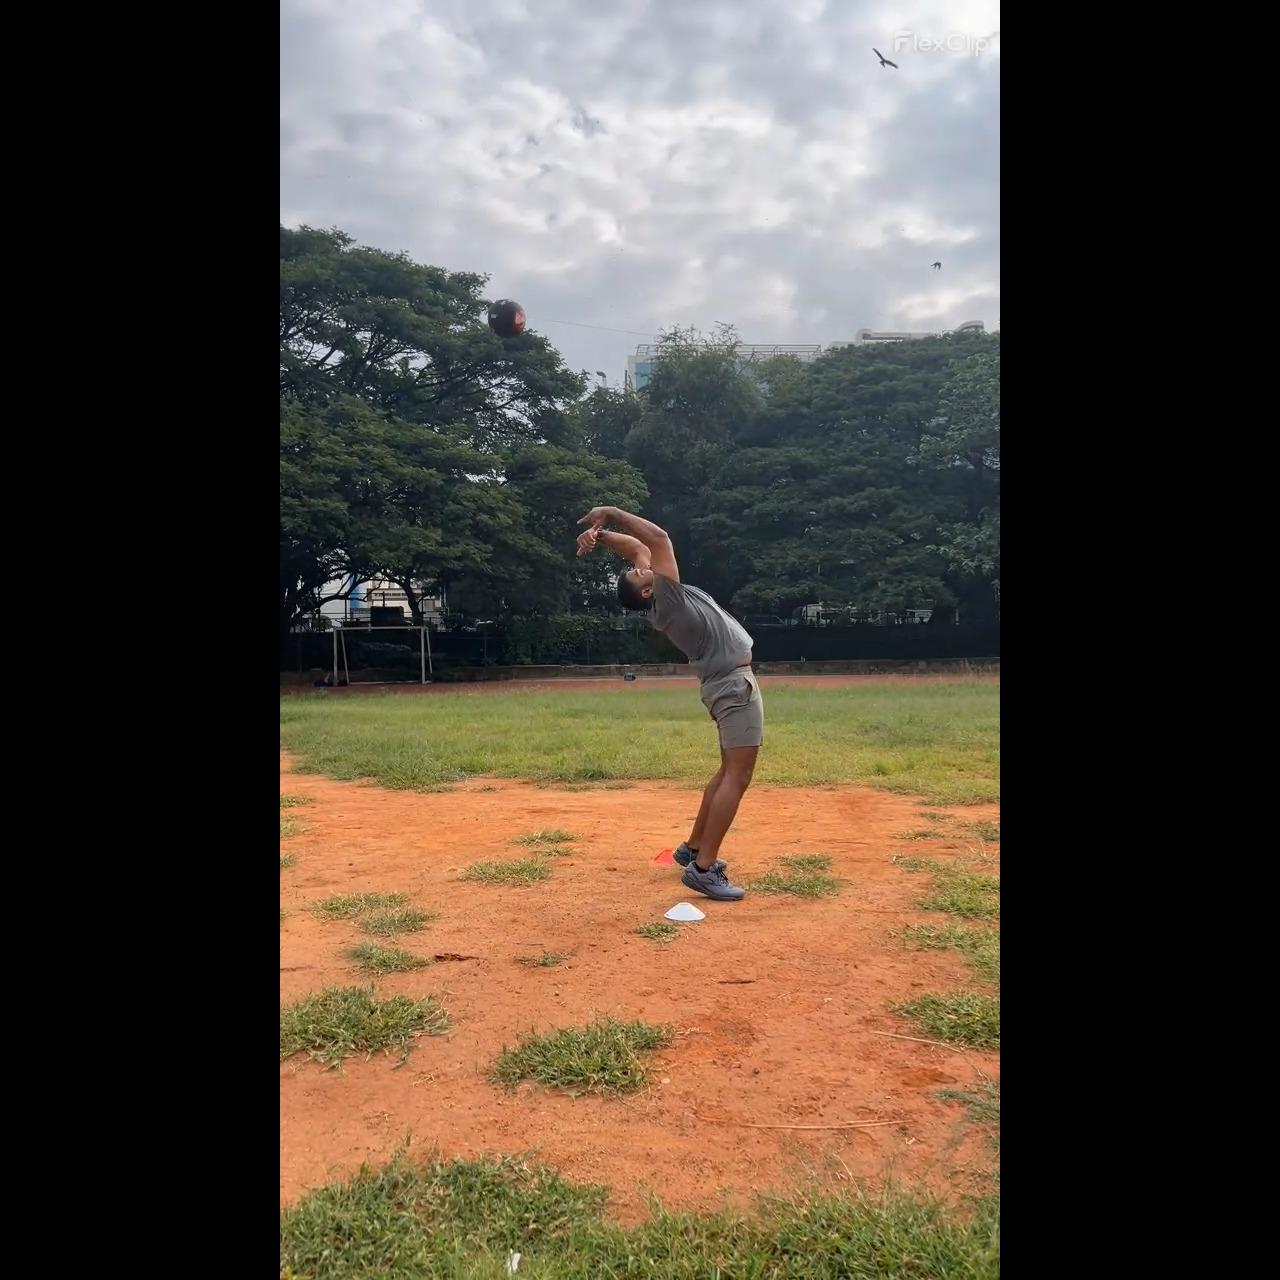Athelete: (573, 505, 761, 903)
Medicine Ball: (486, 298, 527, 339)
